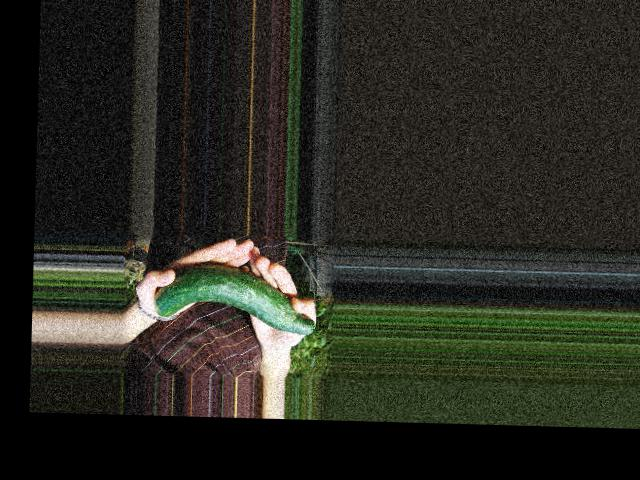cucumber: (152, 263, 315, 334)
